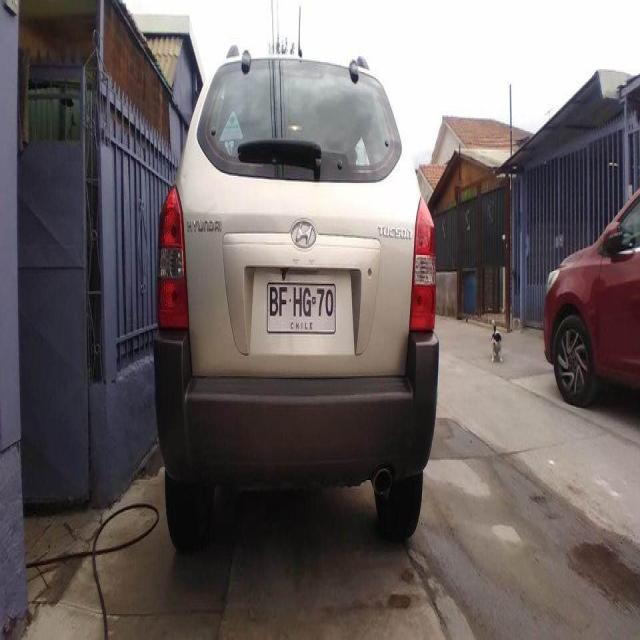patente: (265, 280, 336, 334)
